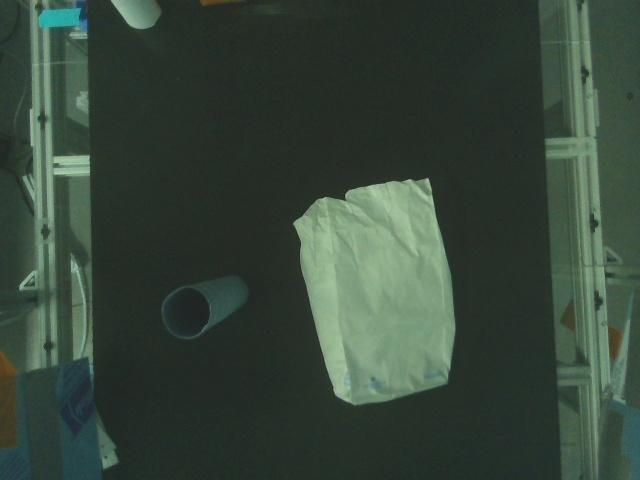cardboard: (161, 275, 248, 340), (109, 0, 164, 32), (196, 0, 240, 8)
paper: (293, 178, 457, 406)
